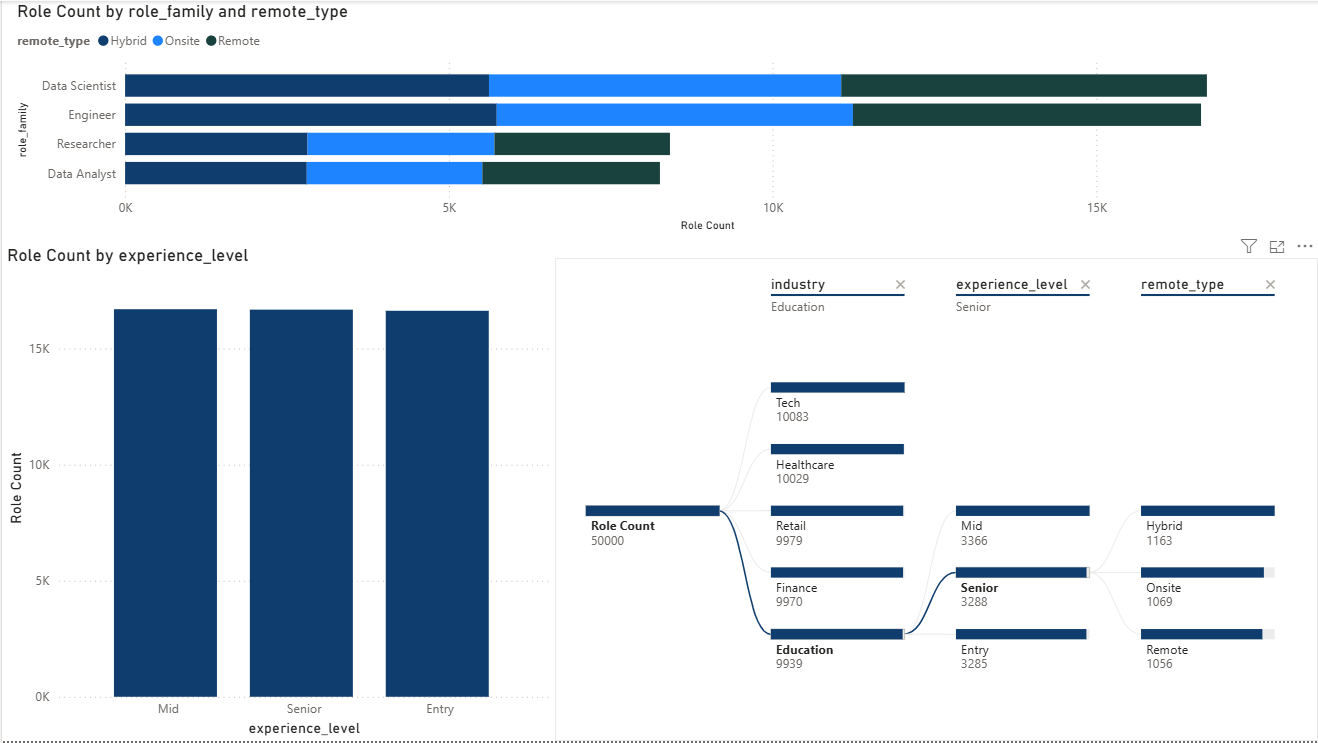

The page's visual inventory and layout, read from the dashboard file:
{"tool":"powerbi","page":{"name":"Page 3","canvas":[1280,720],"ordinal":2},"visuals":[{"type":"barChart","fields":{"Category":["ai_jobs_cleaned.role_family"],"Series":["ai_jobs_cleaned.remote_type"],"Y":["ai_jobs_cleaned.Role Count"]},"box":[9.7,0,1258.6,228.6],"z":0},{"type":"clusteredColumnChart","fields":{"Category":["ai_jobs_cleaned.experience_level"],"Y":["ai_jobs_cleaned.Role Count"]},"box":[0,237.3,536.9,482.4],"z":1},{"type":"decompositionTreeVisual","fields":{"Analyze":["ai_jobs_cleaned.Role Count"],"ExplainBy":["ai_jobs_cleaned.industry","ai_jobs_cleaned.experience_level","ai_jobs_cleaned.remote_type"]},"box":[537.9,250,742.1,469.8],"z":2}]}

Visuals, with their boxes in screenshot pixels (x1, y1, x2, y2), scaled from the page's 1280x720 canvas onto the 1318x743 screenshot:
barChart - ai_jobs_cleaned.role_family x ai_jobs_cleaned.remote_type: crop(10, 0, 1306, 236)
clusteredColumnChart - ai_jobs_cleaned.experience_level x ai_jobs_cleaned.Role Count: crop(0, 245, 553, 742)
decompositionTreeVisual - ai_jobs_cleaned.Role Count x ai_jobs_cleaned.industry: crop(554, 258, 1317, 742)
